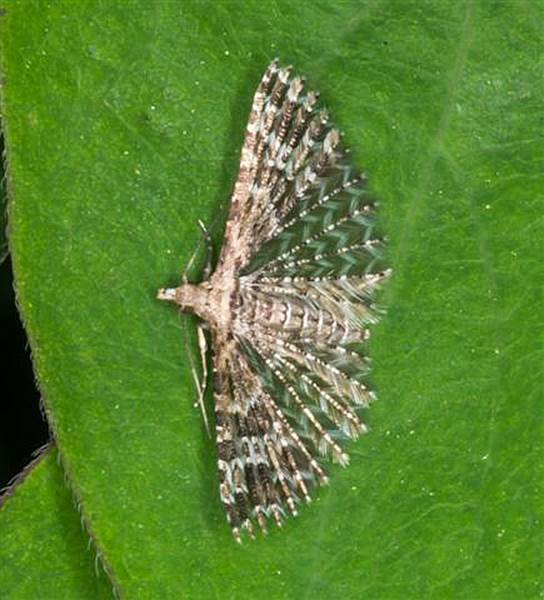Alucitidae: (151, 57, 395, 543)
moth: (149, 55, 393, 541)
